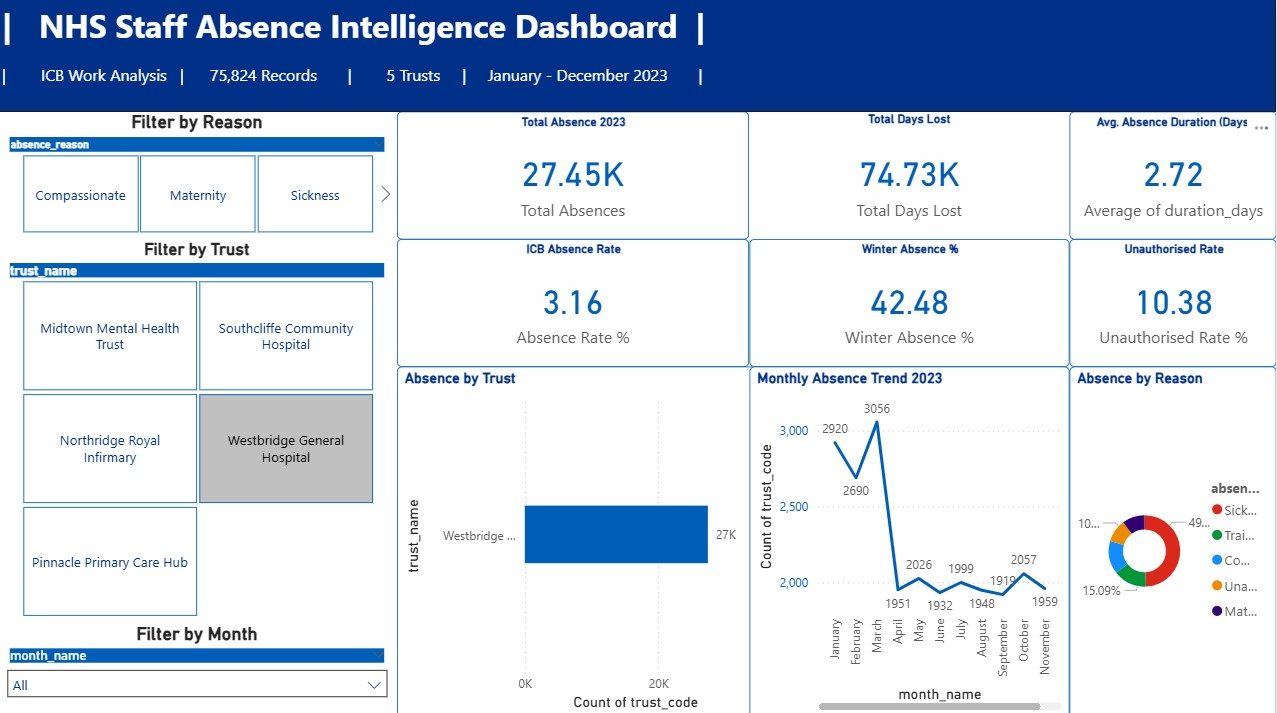

What the dashboard file says about the page in this screenshot:
{"tool":"powerbi","page":{"name":"Page 1","canvas":[1280,720],"ordinal":0},"visuals":[{"type":"card","title":"Total Absence 2023","fields":{"Values":["_Measures.Total Absences"]},"box":[400,112,352,128],"z":0},{"type":"card","title":"Total Days Lost","fields":{"Values":["_Measures.Total Days Lost"]},"box":[752,112,320,128],"z":1000},{"type":"card","title":"Avg.  Absence Duration (Days)","fields":{"Values":["Avg(nhs_staff_absence.duration_days)"]},"box":[1072,112,208,128],"z":2000},{"type":"clusteredBarChart","title":"Absence by Trust","fields":{"Category":["nhs_staff_absence.trust_name"],"Y":["CountNonNull(nhs_staff_absence.trust_code)"]},"box":[400,368,368,352],"z":3000},{"type":"lineChart","title":"Monthly Absence Trend 2023","fields":{"Y":["CountNonNull(nhs_staff_absence.trust_code)"],"Category":["nhs_staff_absence.month_name"]},"box":[752,368,320,352],"z":4000},{"type":"donutChart","title":"Absence by Reason","fields":{"Category":["nhs_staff_absence.absence_reason"],"Y":["CountNonNull(nhs_staff_absence.trust_code)"]},"box":[1072,368,208,352],"z":5000},{"type":"slicer","title":"Filter by Trust","fields":{"Values":["nhs_staff_absence.trust_name"]},"box":[0,240,400,384],"z":6000},{"type":"slicer","title":"Filter by Reason","fields":{"Values":["nhs_staff_absence.absence_reason"]},"box":[0,112,400,128],"z":7000},{"type":"slicer","title":"Filter by Month","fields":{"Values":["nhs_staff_absence.month_name"]},"box":[0,624,400,96],"z":8000},{"type":"card","title":"ICB Absence Rate","fields":{"Values":["_Measures.Absence Rate %"]},"box":[400,240,352,128],"z":9000},{"type":"card","title":"Winter Absence %","fields":{"Values":["_Measures.Winter Absence %"]},"box":[752,240,320,128],"z":10000},{"type":"card","title":"Unauthorised Rate","fields":{"Values":["_Measures.Unauthorised Rate %"]},"box":[1072,240,208,128],"z":11000},{"type":"textbox","box":[0,0,1280,112],"z":12000}]}

Visuals, with their boxes in screenshot pixels (x1, y1, x2, y2), scaled from the page's 1280x720 canvas onto the 1277x713 screenshot:
"Total Absence 2023" card: box(399, 111, 750, 238)
"Total Days Lost" card: box(750, 111, 1069, 238)
"Avg.  Absence Duration (Days)" card: box(1069, 111, 1276, 238)
"Absence by Trust" clusteredBarChart: box(399, 364, 766, 712)
"Monthly Absence Trend 2023" lineChart: box(750, 364, 1069, 712)
"Absence by Reason" donutChart: box(1069, 364, 1276, 712)
"Filter by Trust" slicer: box(0, 238, 399, 618)
"Filter by Reason" slicer: box(0, 111, 399, 238)
"Filter by Month" slicer: box(0, 618, 399, 712)
"ICB Absence Rate" card: box(399, 238, 750, 364)
"Winter Absence %" card: box(750, 238, 1069, 364)
"Unauthorised Rate" card: box(1069, 238, 1276, 364)
textbox: box(0, 0, 1276, 111)
